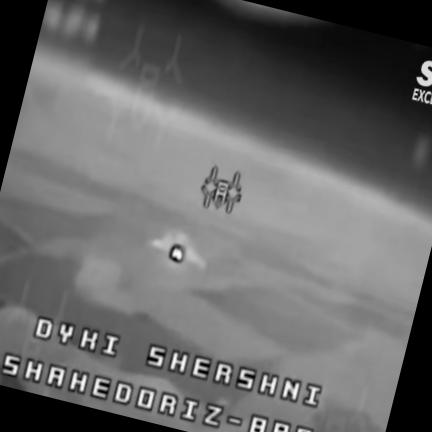Shahed: (150, 231, 206, 269)
